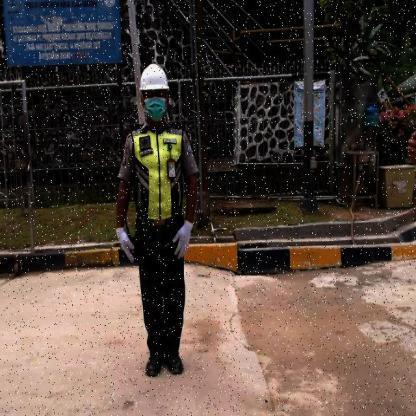boots: (164, 348, 188, 378), (144, 352, 164, 379)
gloves: (170, 216, 194, 262), (113, 224, 138, 268)
helmet: (138, 62, 171, 92)
mask: (144, 96, 167, 122)
